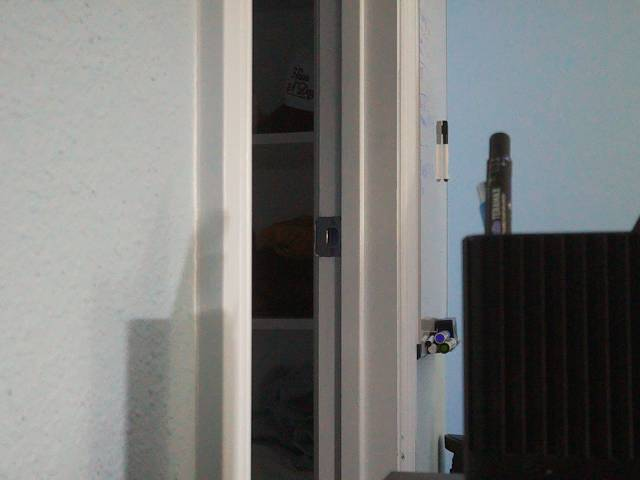crater: (164, 248, 365, 449), (164, 181, 365, 382), (222, 286, 416, 480), (190, 132, 375, 318), (188, 79, 365, 256), (197, 0, 369, 172), (415, 303, 567, 455), (416, 232, 567, 383), (223, 25, 366, 168), (187, 348, 318, 480)
